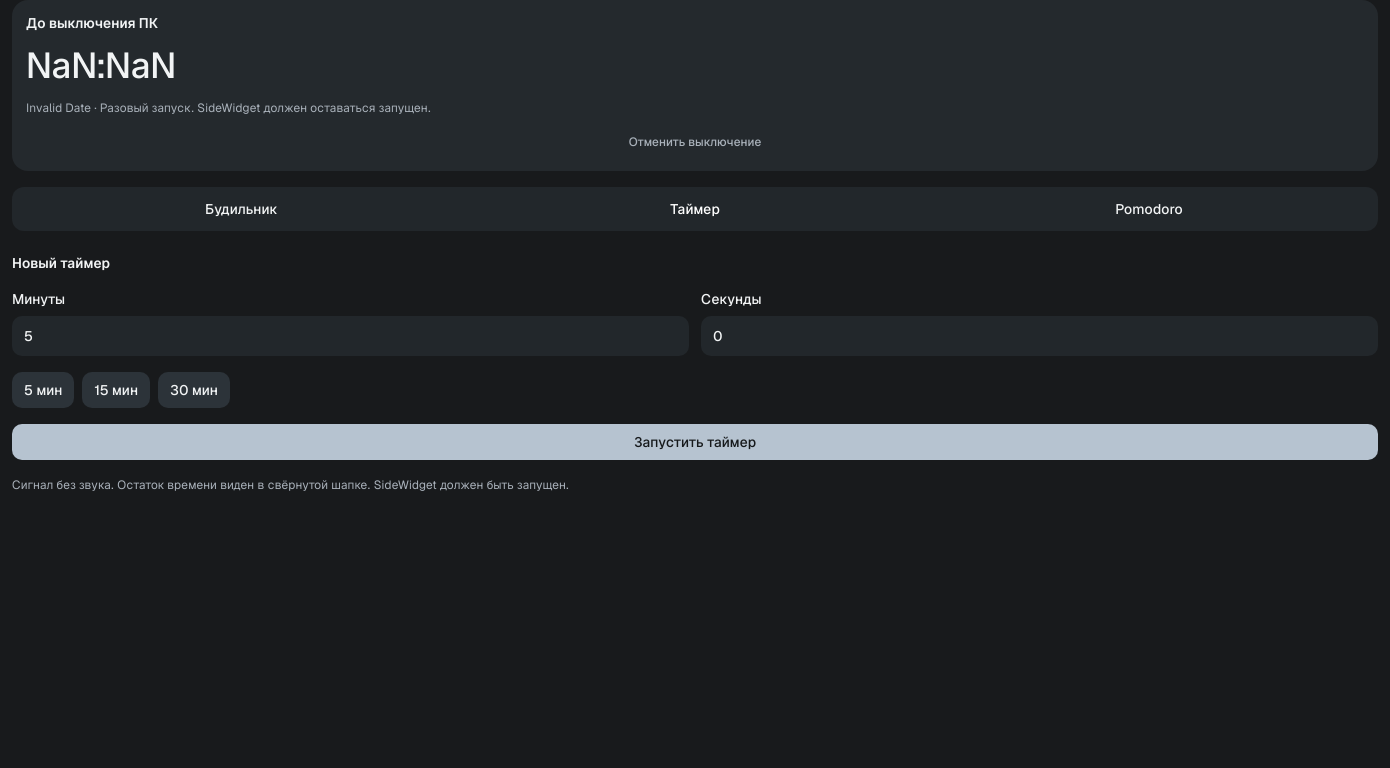
it: submits native timer commands and retains live state when command fails
The width and height of the screenshot is (1390, 768).
Click the button "Запустить таймер".
click(695, 442)  # box [12, 424, 1378, 460]
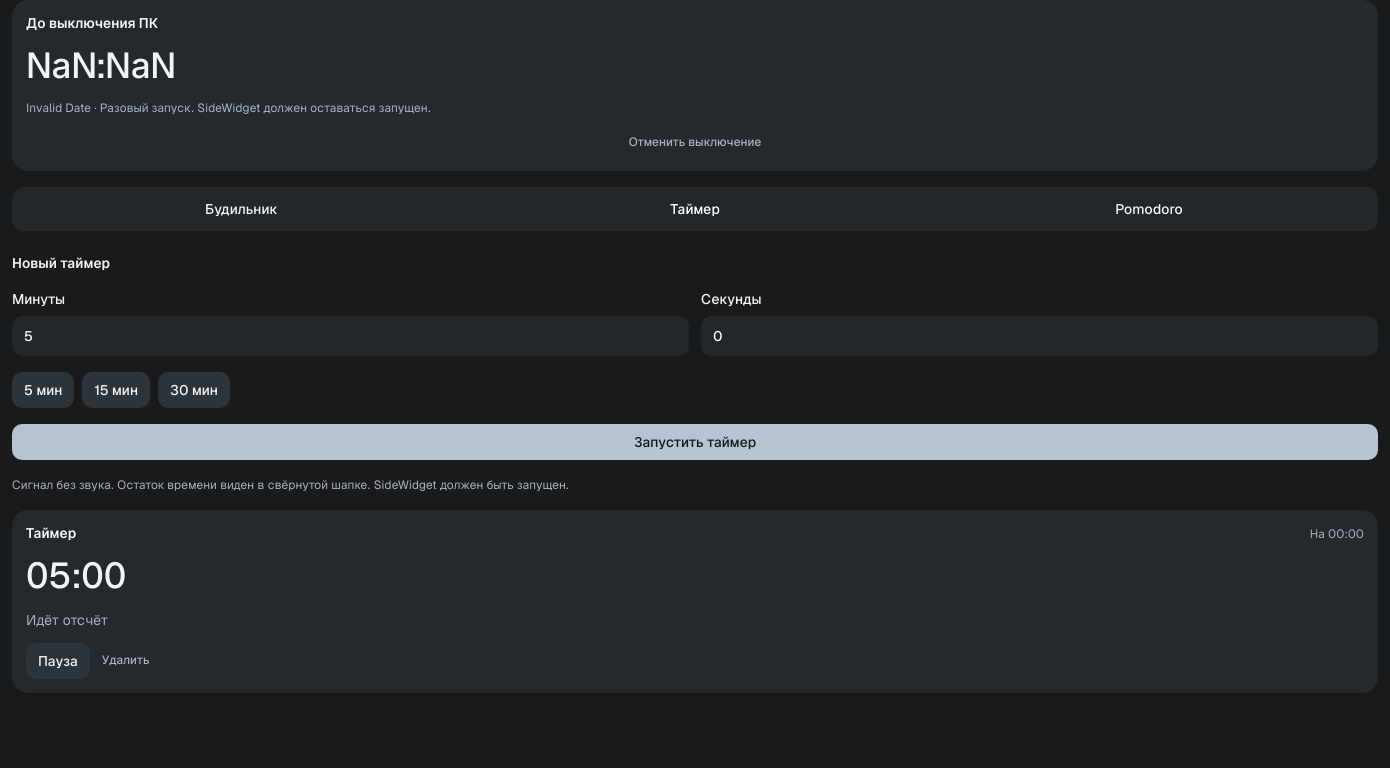
Click the button "Пауза".
click(58, 661)  # box [26, 643, 90, 679]
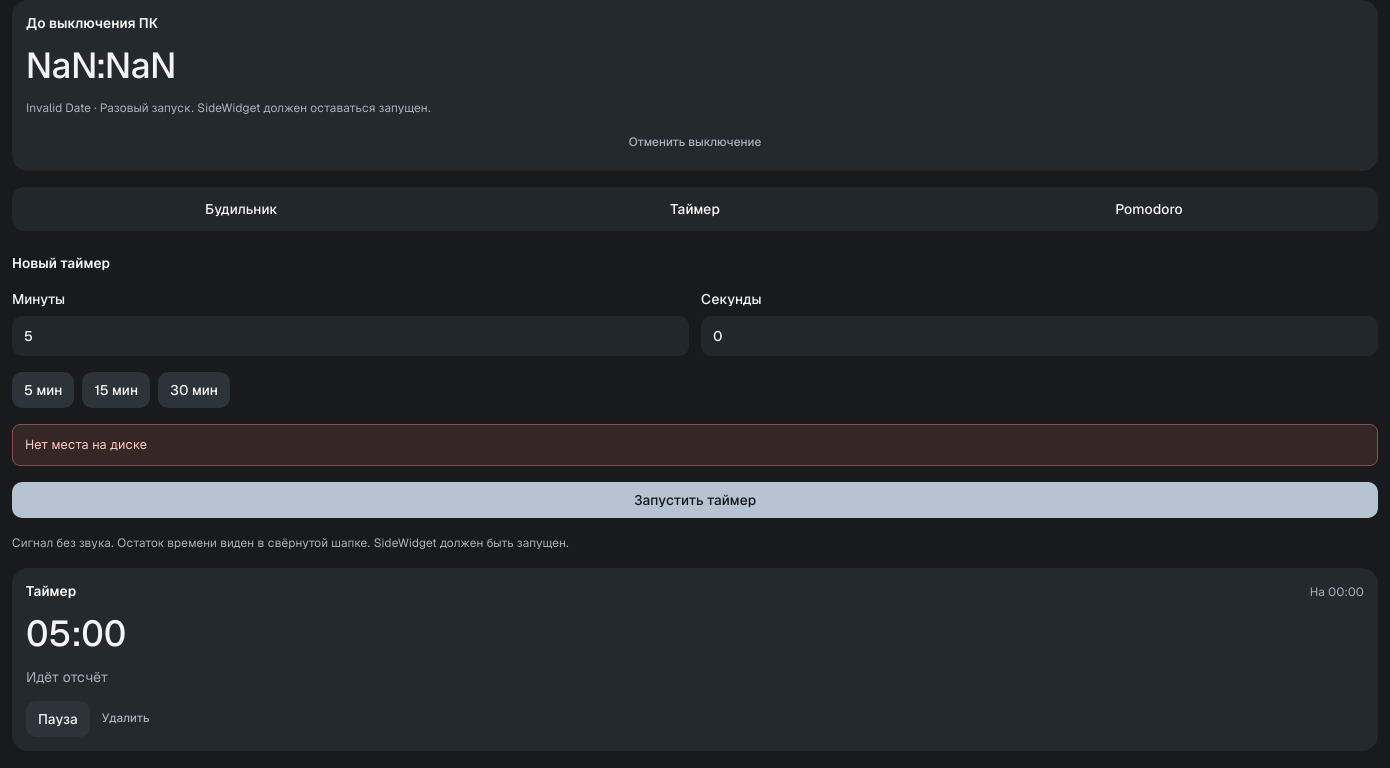
Result: the button "Пауза" is shown at [26, 701, 90, 737]
Result: the message "Нет места на диске" is shown at [12, 424, 1378, 466]
